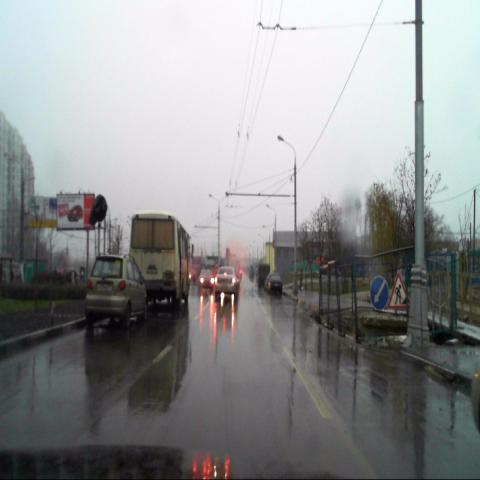4_2_2: (370, 276, 388, 309)
